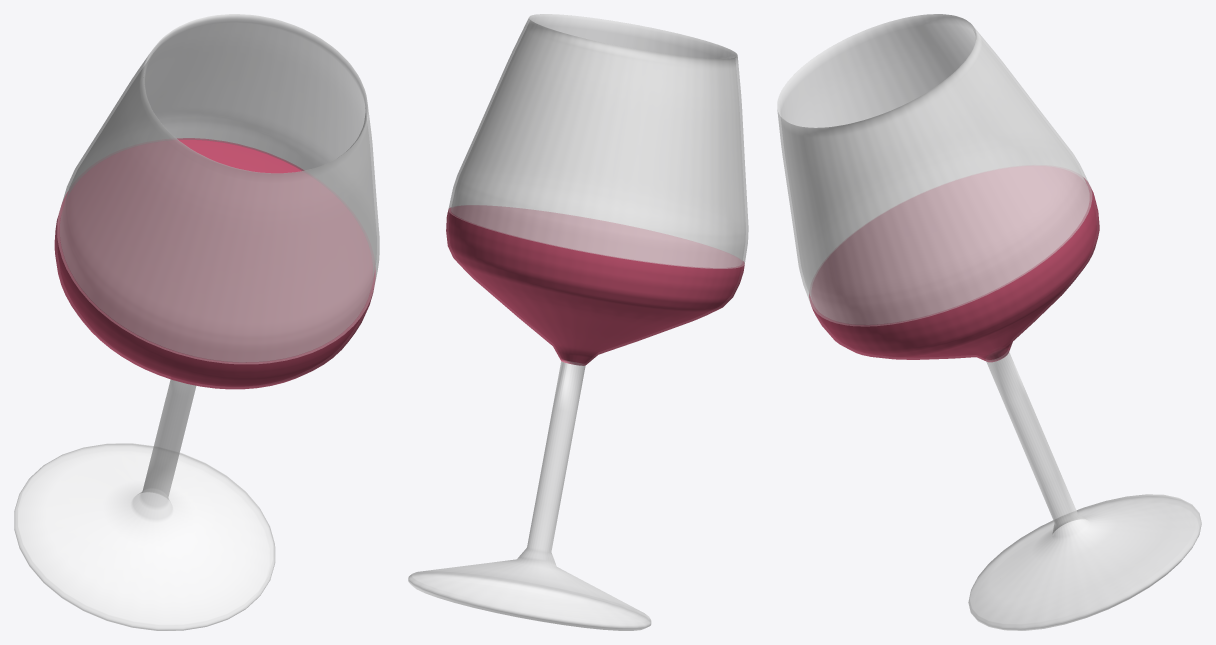
Rendered from vin.obj.
3 renders of one model, left to right at view 1: azimuth 30°, elevation 25°; view 2: azimuth 150°, elevation 25°; view 3: azimuth 270°, elevation 25°, orthographic. The views are drawn at different scales.
Parts seen in each view (by area): view 1: Cylinder; view 2: Cylinder; view 3: Cylinder.
Boxes of the visible parts, x1,y1,x2,y2 form: Cylinder: (14, 14, 379, 630); Cylinder: (408, 14, 748, 630); Cylinder: (777, 14, 1201, 630).
Bounding box in the file's own units: 0.2159 × 0.4466 × 0.3016.
Materials: 2 (2 with a texture image).
